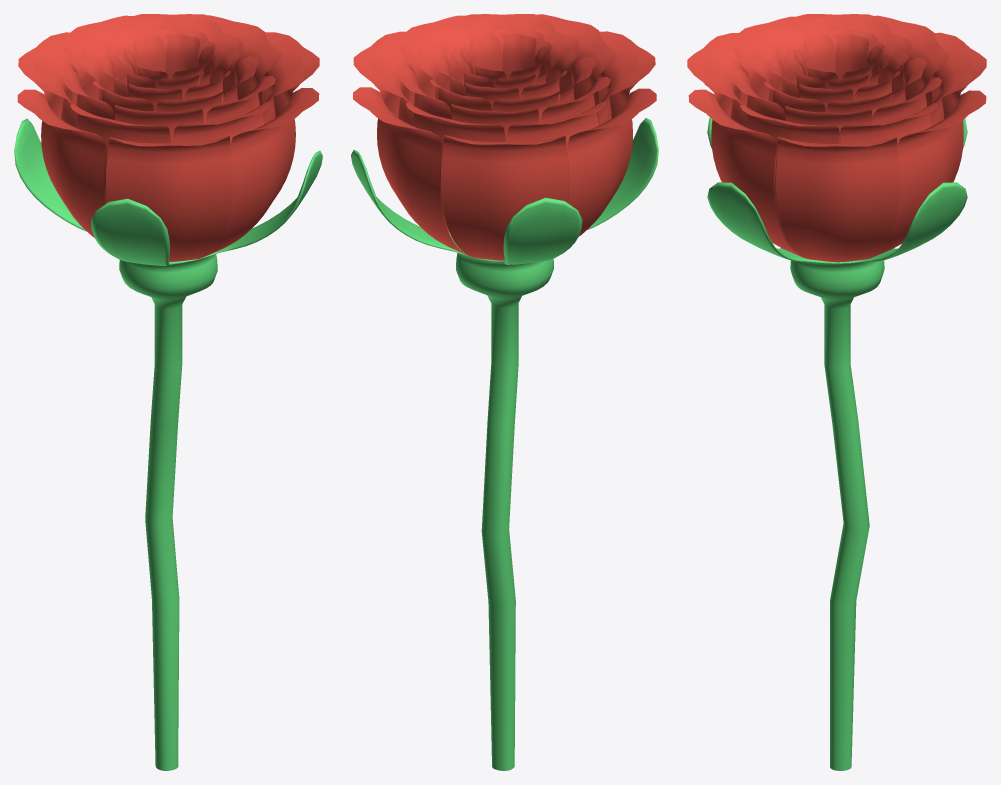
Rendered from Rose.fbx.
3 renders of one model, left to right at view 1: azimuth 30°, elevation 25°; view 2: azimuth 150°, elevation 25°; view 3: azimuth 270°, elevation 25°, orthographic.
Parts seen in each view (by area): view 1: Sphere.005, Sphere, Sphere.001, Sphere.002, Sphere.003, Sphere.004, Sphere.007, Sphere.006; view 2: Sphere.005, Sphere, Sphere.001, Sphere.002, Sphere.003, Sphere.004, Sphere.007, Sphere.006; view 3: Sphere.005, Sphere, Sphere.001, Sphere.002, Sphere.003, Sphere.004, Sphere.007, Sphere.006.
Boxes of the visible parts, x1,y1,x2,y2 form: Sphere.005: (17, 14, 319, 261); Sphere: (14, 118, 322, 770); Sphere.001: (33, 15, 303, 204); Sphere.002: (55, 16, 281, 143); Sphere.003: (77, 25, 259, 123); Sphere.004: (97, 28, 239, 111); Sphere.007: (123, 34, 213, 88); Sphere.006: (114, 33, 222, 100); Sphere.005: (353, 14, 656, 260); Sphere: (351, 118, 658, 770); Sphere.001: (370, 14, 639, 230); Sphere.002: (392, 15, 616, 141); Sphere.003: (414, 25, 595, 122); Sphere.004: (433, 28, 576, 110); Sphere.007: (459, 33, 550, 87); Sphere.006: (451, 32, 558, 98); Sphere.005: (687, 14, 986, 262); Sphere: (707, 117, 967, 770); Sphere.001: (702, 15, 971, 145); Sphere.002: (726, 16, 949, 132); Sphere.003: (748, 25, 926, 117); Sphere.004: (766, 29, 908, 112); Sphere.007: (792, 34, 882, 88); Sphere.006: (783, 33, 891, 99).
Bounding box in the file's own units: 246 × 615 × 234.
